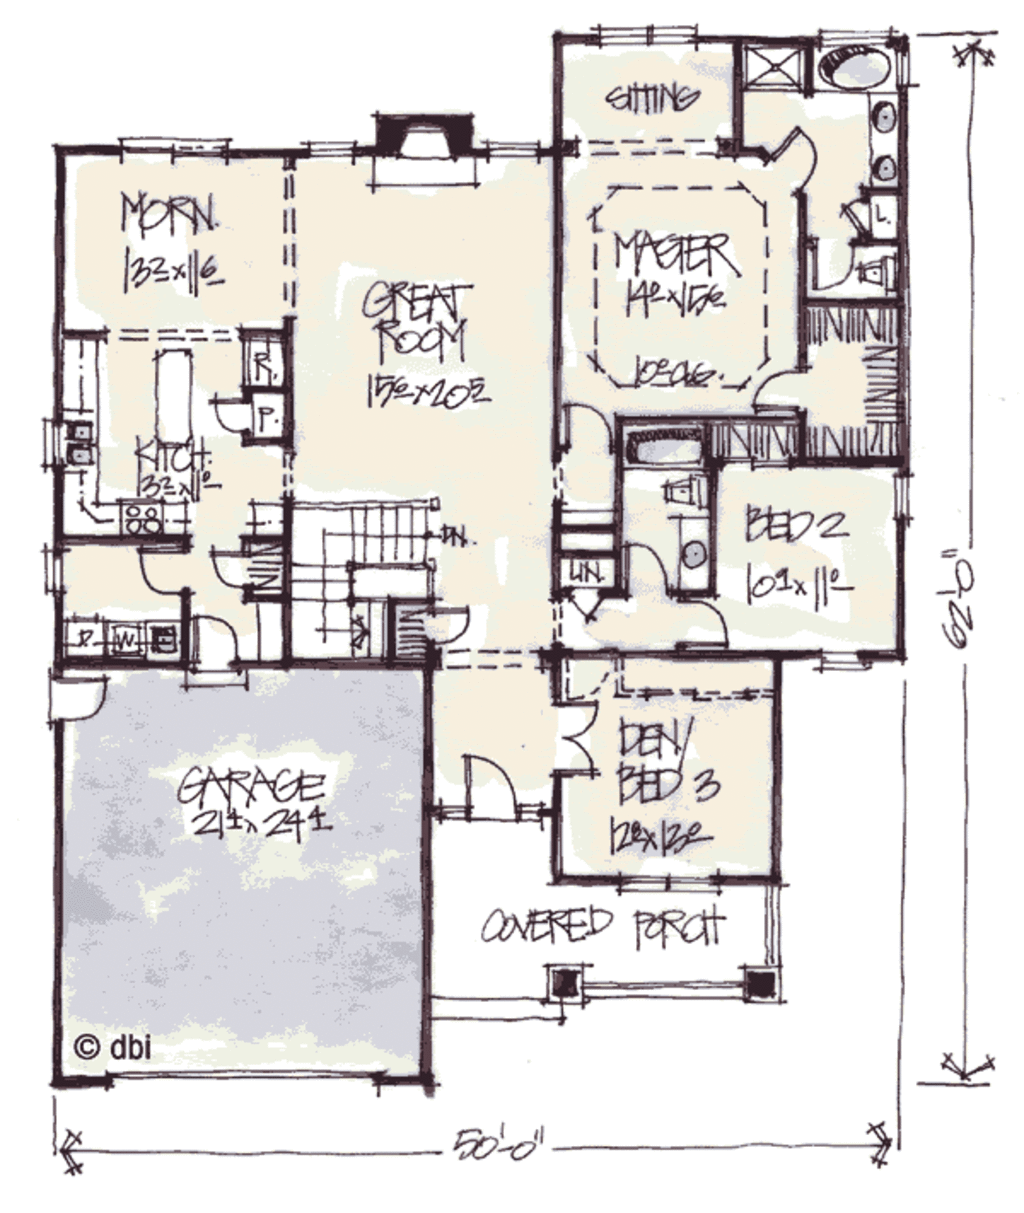door: (442, 751, 526, 823), (552, 693, 605, 785), (191, 611, 247, 692), (746, 358, 819, 411), (46, 668, 110, 726), (207, 541, 271, 598), (419, 602, 474, 661), (770, 115, 816, 186), (560, 392, 612, 453), (130, 542, 191, 592), (687, 590, 732, 645), (624, 540, 667, 592), (814, 242, 852, 290), (210, 398, 260, 432)
large_sink: (857, 251, 904, 298), (660, 470, 709, 515)
small_sink: (867, 93, 907, 177), (677, 518, 714, 582)
stairs: (292, 502, 430, 651)
tub: (620, 421, 707, 463)
twin_sink: (52, 420, 102, 468)
window: (572, 23, 712, 51), (887, 461, 926, 537), (479, 133, 551, 166), (805, 642, 870, 677), (41, 545, 74, 601), (301, 133, 360, 165)
